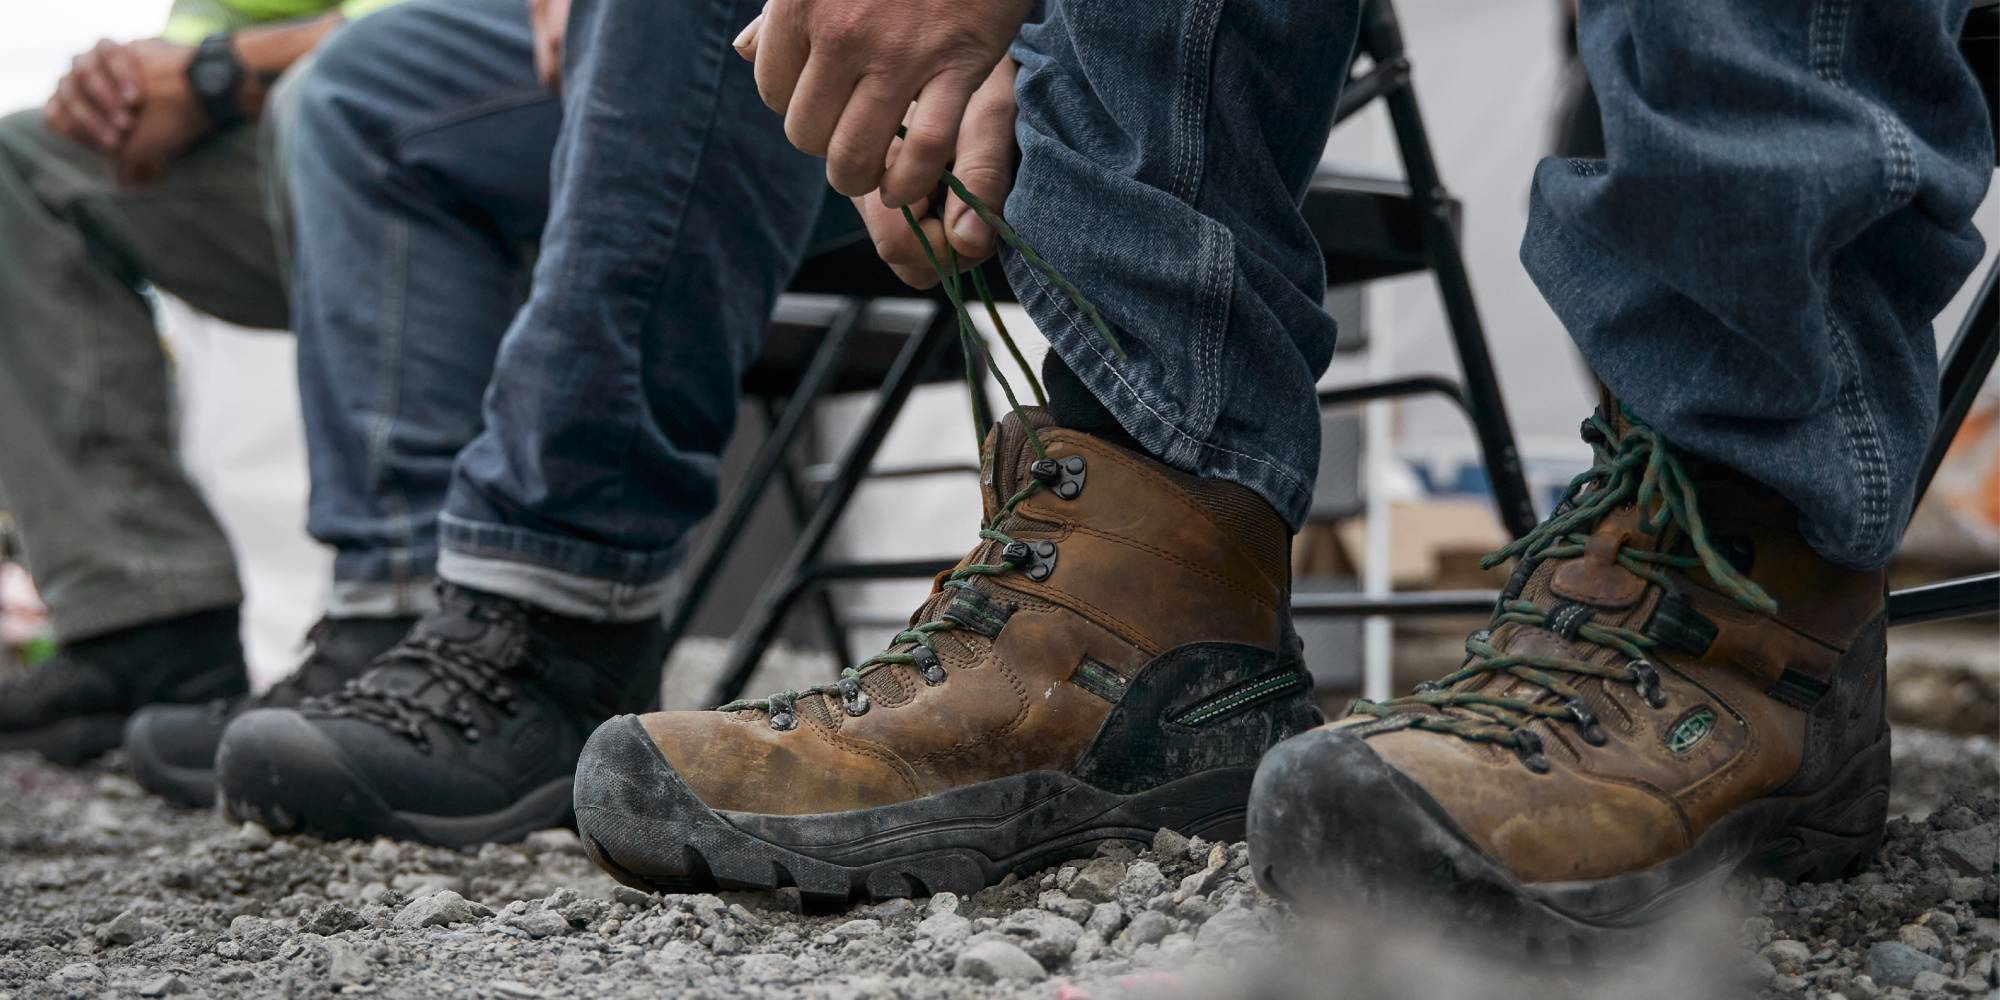Steel-toe Boots: (575, 355, 1347, 902), (1231, 409, 1920, 962)
